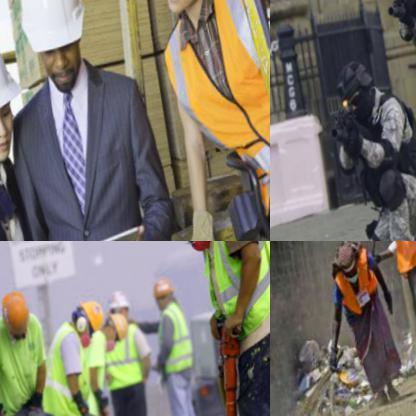vest: (148, 0, 269, 222), (339, 90, 415, 203), (197, 241, 269, 356), (32, 309, 98, 415), (96, 320, 151, 398), (149, 306, 195, 384), (328, 260, 384, 320), (385, 241, 415, 278)
